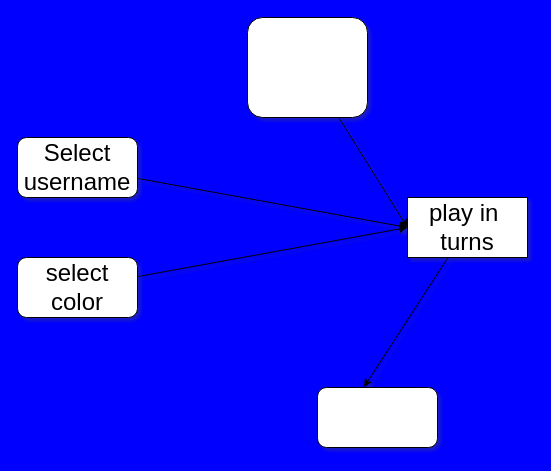
The diagram is 551 pixels wide and 471 high, and some of its shapes have lost their labels. The box of each missing label's shape, as (x1, y1, x2, y2) in pixels:
select board dimension: (246, 16, 368, 118)
win lose: (316, 386, 438, 448)
